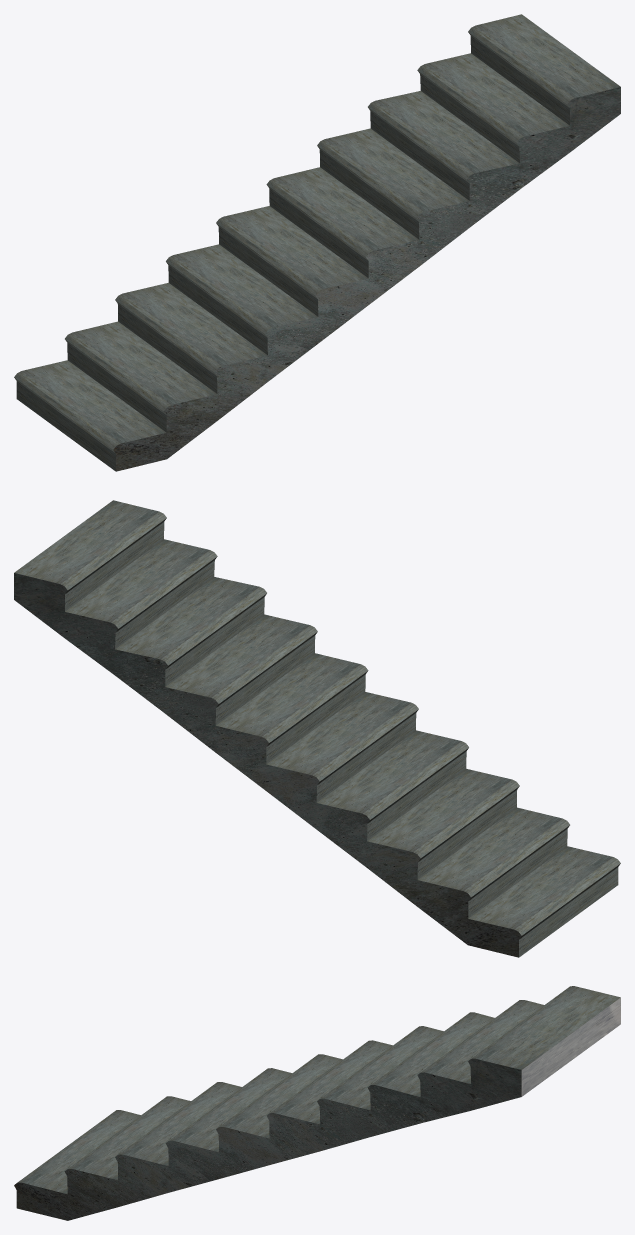
The picture shows the model from 3 angles, top to bottom: view 1: azimuth 30°, elevation 25°; view 2: azimuth 150°, elevation 25°; view 3: azimuth 330°, elevation 25°; orthographic projection.
Parts seen in each view (by area): view 1: lestnica_10_Cube.005_Beton_beton.JPG, lestnica_10_Cube.005_Beton_beton.JPG.016, lestnica_10_Cube.005_Beton_beton.JPG.002, lestnica_10_Cube.005_Beton_beton.JPG.008, lestnica_10_Cube.005_Beton_beton.JPG.011, lestnica_10_Cube.005_Beton_beton.JPG.005, lestnica_10_Cube.005_Beton, lestnica_10_Cube.005_Beton_beton.JPG.009, lestnica_10_Cube.005_Beton_beton.JPG.017, lestnica_10_Cube.005_Beton_beton.JPG.010, lestnica_10_Cube.005_Beton_beton.JPG.026; view 2: lestnica_10_Cube.005_Beton_beton.JPG, lestnica_10_Cube.005_Beton_beton.JPG.016, lestnica_10_Cube.005_Beton_beton.JPG.002, lestnica_10_Cube.005_Beton_beton.JPG.008, lestnica_10_Cube.005_Beton_beton.JPG.011, lestnica_10_Cube.005_Beton_beton.JPG.005, lestnica_10_Cube.005_Beton, lestnica_10_Cube.005_Beton_beton.JPG.009, lestnica_10_Cube.005_Beton_beton.JPG.017, lestnica_10_Cube.005_Beton_beton.JPG.010, lestnica_10_Cube.005_Beton_beton.JPG.026; view 3: lestnica_10_Cube.005_Beton_beton.JPG.026, lestnica_10_Cube.005_Beton_beton.JPG.016, lestnica_10_Cube.005_Beton_beton.JPG.010, lestnica_10_Cube.005_Beton_beton.JPG, lestnica_10_Cube.005_Beton_beton.JPG.011, lestnica_10_Cube.005_Beton_beton.JPG.009, lestnica_10_Cube.005_Beton_beton.JPG.005, lestnica_10_Cube.005_Beton, lestnica_10_Cube.005_Beton_beton.JPG.017, lestnica_10_Cube.005_Beton_beton.JPG.002, lestnica_10_Cube.005_Beton_beton.JPG.008, lestnica_10_Cube.005_Pobelka.
Boxes of the visible parts, box(x1,y1,x2,y2) form: lestnica_10_Cube.005_Beton_beton.JPG: box(14, 360, 166, 471); lestnica_10_Cube.005_Beton_beton.JPG.016: box(468, 14, 620, 125); lestnica_10_Cube.005_Beton_beton.JPG.002: box(65, 321, 217, 432); lestnica_10_Cube.005_Beton_beton.JPG.008: box(266, 167, 419, 278); lestnica_10_Cube.005_Beton_beton.JPG.011: box(317, 128, 469, 239); lestnica_10_Cube.005_Beton_beton.JPG.005: box(115, 283, 267, 393); lestnica_10_Cube.005_Beton: box(166, 244, 318, 355); lestnica_10_Cube.005_Beton_beton.JPG.009: box(216, 206, 368, 316); lestnica_10_Cube.005_Beton_beton.JPG.017: box(417, 53, 570, 163); lestnica_10_Cube.005_Beton_beton.JPG.010: box(368, 91, 520, 200); lestnica_10_Cube.005_Beton_beton.JPG.026: box(166, 114, 620, 458); lestnica_10_Cube.005_Beton_beton.JPG: box(468, 846, 620, 957); lestnica_10_Cube.005_Beton_beton.JPG.016: box(14, 500, 166, 611); lestnica_10_Cube.005_Beton_beton.JPG.002: box(417, 807, 569, 918); lestnica_10_Cube.005_Beton_beton.JPG.008: box(215, 653, 368, 764); lestnica_10_Cube.005_Beton_beton.JPG.011: box(165, 614, 317, 725); lestnica_10_Cube.005_Beton_beton.JPG.005: box(367, 769, 519, 879); lestnica_10_Cube.005_Beton: box(316, 730, 468, 841); lestnica_10_Cube.005_Beton_beton.JPG.009: box(266, 692, 418, 802); lestnica_10_Cube.005_Beton_beton.JPG.017: box(64, 539, 217, 649); lestnica_10_Cube.005_Beton_beton.JPG.010: box(114, 577, 266, 686); lestnica_10_Cube.005_Beton_beton.JPG.026: box(14, 600, 468, 944); lestnica_10_Cube.005_Beton_beton.JPG.026: box(67, 1084, 520, 1220); lestnica_10_Cube.005_Beton_beton.JPG.016: box(468, 986, 620, 1096); lestnica_10_Cube.005_Beton_beton.JPG.010: box(367, 1012, 494, 1122); lestnica_10_Cube.005_Beton_beton.JPG: box(14, 1110, 140, 1220); lestnica_10_Cube.005_Beton_beton.JPG.011: box(317, 1026, 443, 1136); lestnica_10_Cube.005_Beton_beton.JPG.009: box(216, 1054, 342, 1164); lestnica_10_Cube.005_Beton_beton.JPG.005: box(115, 1082, 241, 1192); lestnica_10_Cube.005_Beton: box(166, 1068, 291, 1178); lestnica_10_Cube.005_Beton_beton.JPG.017: box(417, 1000, 543, 1110); lestnica_10_Cube.005_Beton_beton.JPG.002: box(64, 1096, 190, 1206); lestnica_10_Cube.005_Beton_beton.JPG.008: box(267, 1040, 392, 1150); lestnica_10_Cube.005_Pobelka: box(521, 997, 620, 1096).
Bounding box in the file's own units: 2.95 × 1.45 × 1.
12 materials, 12 textured.
